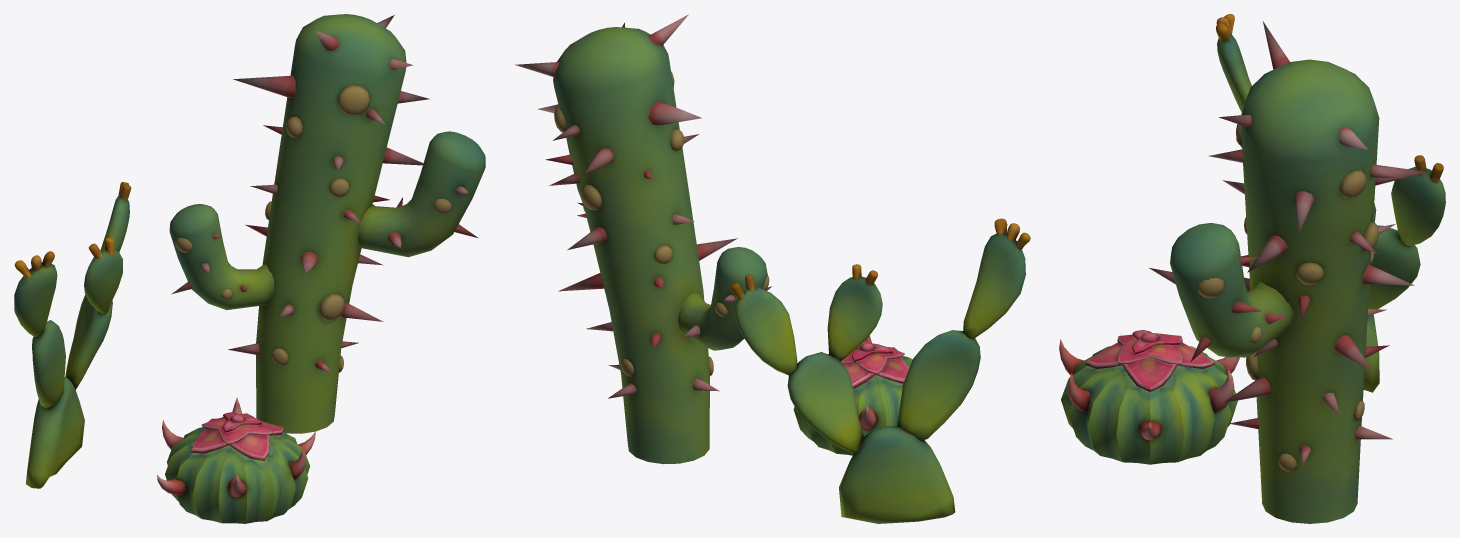
The model's file is PRP_Cactus.glb.
3 renders of one model, left to right at view 1: azimuth 30°, elevation 25°; view 2: azimuth 150°, elevation 25°; view 3: azimuth 270°, elevation 25°, orthographic. The views are drawn at different scales.
Parts seen in each view (by area): view 1: defaultMaterial (×3); view 2: defaultMaterial (×3); view 3: defaultMaterial (×3).
Part boxes in pixels (x1,y1,x2,y2): defaultMaterial (×3): [14, 14, 485, 523]; defaultMaterial (×3): [515, 14, 1030, 523]; defaultMaterial (×3): [1059, 14, 1445, 523].
Size of the model in its own units: 2 by 1.7 by 1.22.
3 materials, 3 textured.
